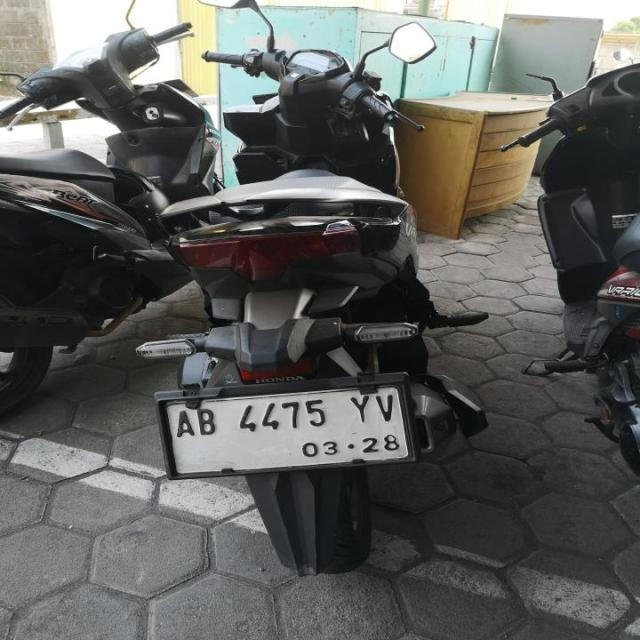License Plate: (165, 384, 412, 475)
